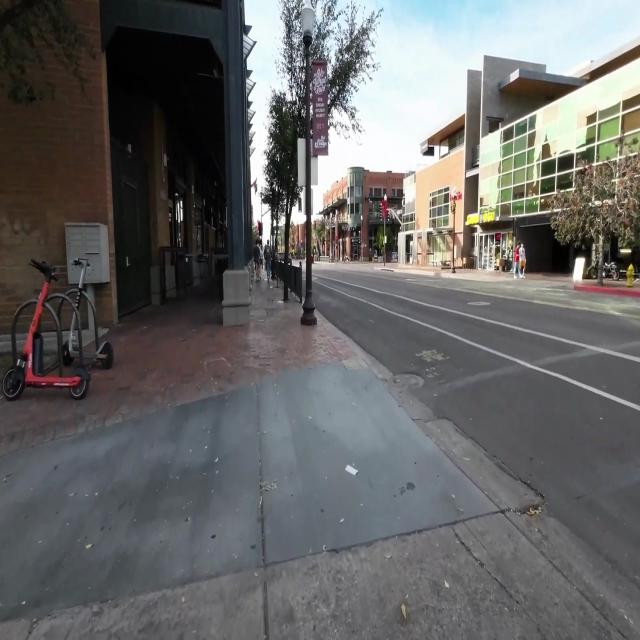road: (312, 261, 640, 639)
side walk: (0, 298, 640, 639)
street sign: (301, 21, 315, 320)
